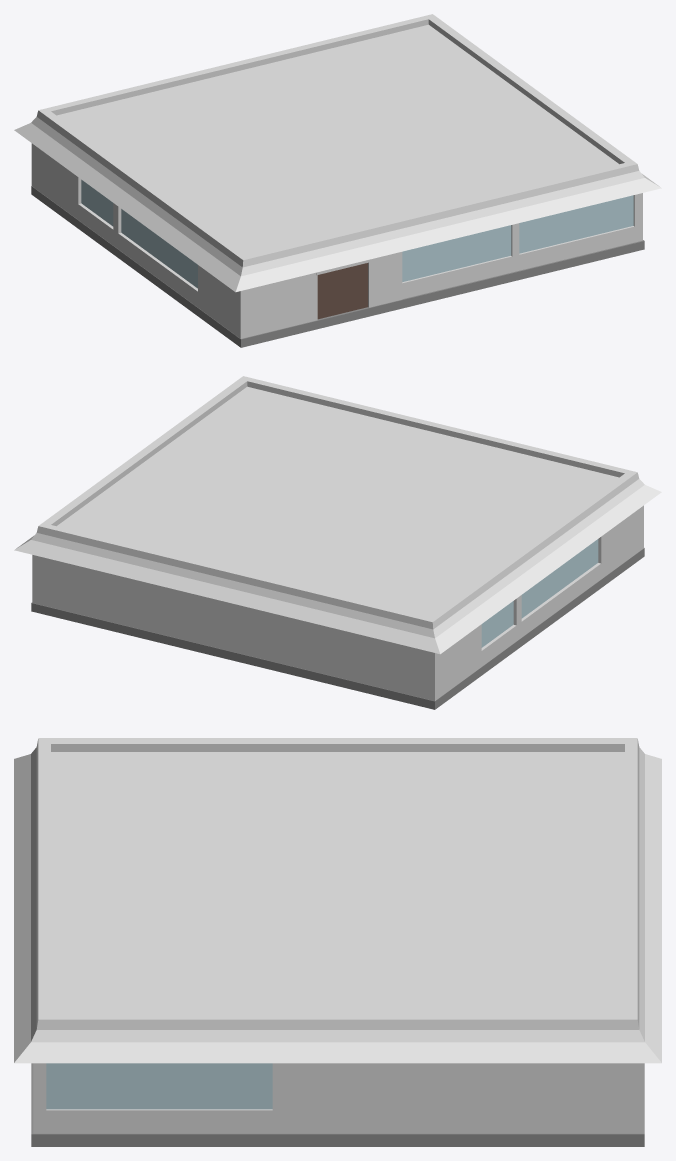
Rendered from CoffeeShopBuilding_00_16.fbx.
The picture shows the model from 3 angles, top to bottom: view 1: azimuth 30°, elevation 25°; view 2: azimuth 150°, elevation 25°; view 3: azimuth 270°, elevation 25°; orthographic projection. The views are drawn at different scales.
Visible parts, largest first — view 1: Roof, Walls, Windows Right Side, Floor, Windows Left Side, Front Door; view 2: Roof, Walls, Floor, Windows Left Side; view 3: Roof, Walls, Windows Right Side, Floor.
Part boxes in pixels (bbox=[...]): Roof: bbox=[14, 14, 661, 292]; Walls: bbox=[31, 143, 642, 338]; Windows Right Side: bbox=[402, 195, 633, 281]; Floor: bbox=[31, 186, 644, 347]; Windows Left Side: bbox=[81, 179, 197, 288]; Front Door: bbox=[317, 263, 367, 319]; Roof: bbox=[14, 376, 661, 654]; Walls: bbox=[32, 505, 643, 700]; Floor: bbox=[31, 548, 644, 709]; Windows Left Side: bbox=[481, 539, 598, 647]; Roof: bbox=[14, 738, 661, 1063]; Walls: bbox=[33, 1063, 644, 1133]; Windows Right Side: bbox=[46, 1063, 272, 1109]; Floor: bbox=[31, 1063, 644, 1146].
Size of the model in its own units: 2112 by 401 by 1901.
